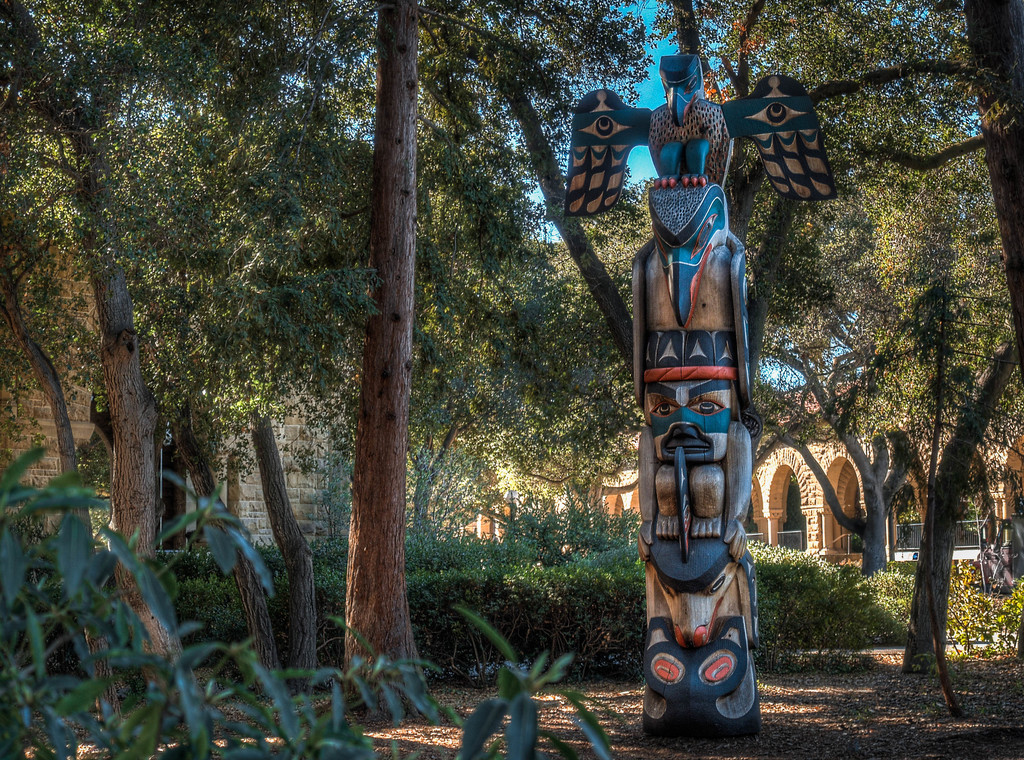Tree: (0, 0, 1024, 736)
